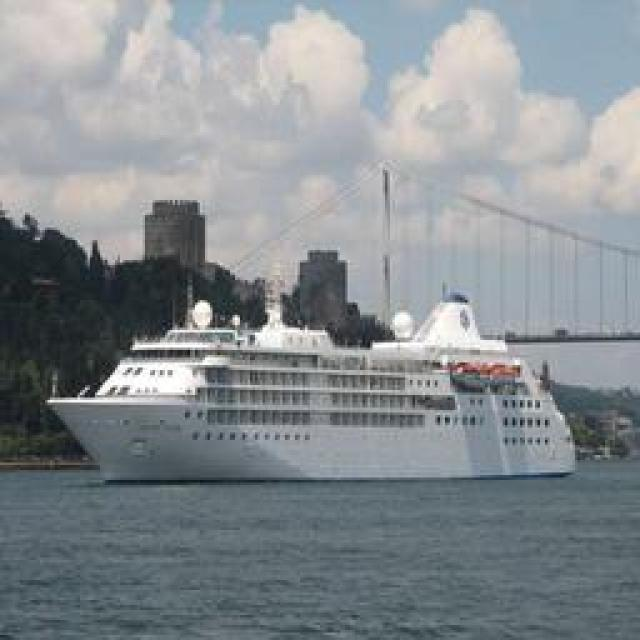CIV_Ship: (54, 288, 584, 484)
